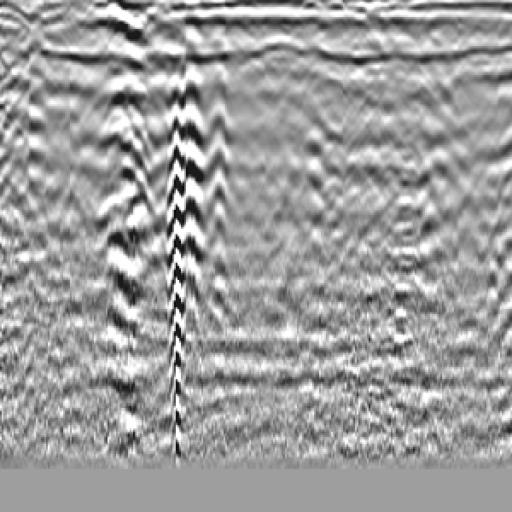metalic: (78, 34, 162, 265)
